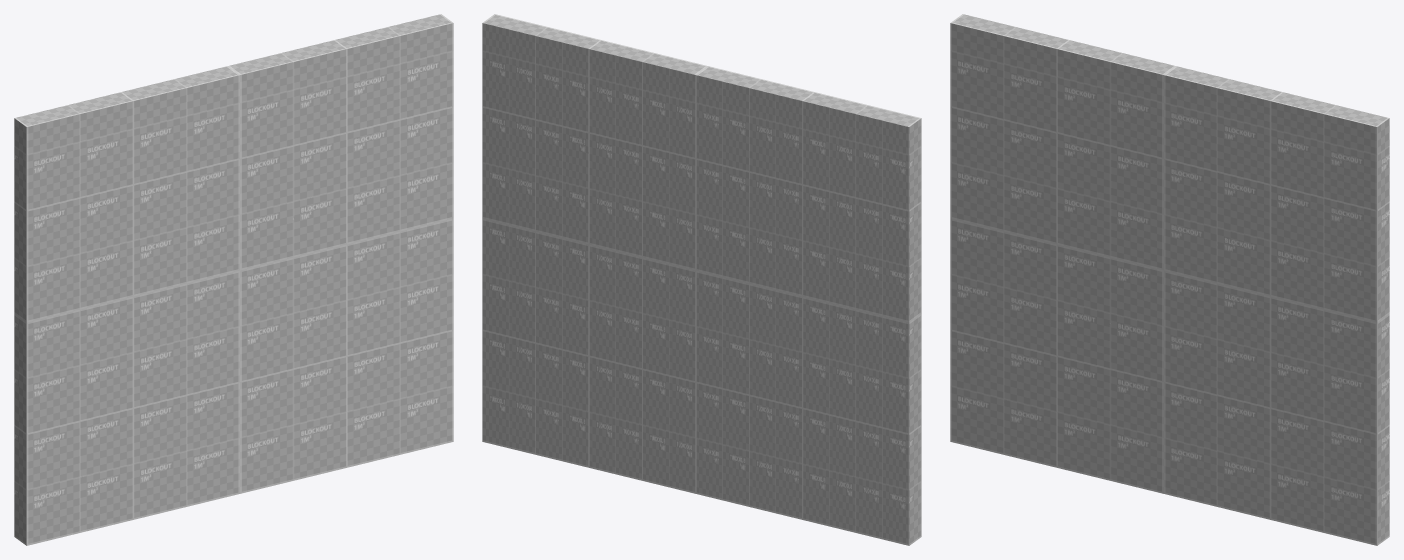
Rendered from BlockoutThinWall08.fbx.
The picture shows the model from 3 angles, left to right: view 1: azimuth 30°, elevation 25°; view 2: azimuth 150°, elevation 25°; view 3: azimuth 330°, elevation 25°; orthographic projection.
Visible parts, largest first — view 1: BlockoutThinWall08; view 2: BlockoutThinWall08; view 3: BlockoutThinWall08.
Boxes of the visible parts, x1,y1,x2,y2 form: BlockoutThinWall08: (14, 14, 453, 545); BlockoutThinWall08: (482, 14, 921, 545); BlockoutThinWall08: (950, 14, 1389, 545).
Size of the model in its own units: 800 by 750 by 40.
